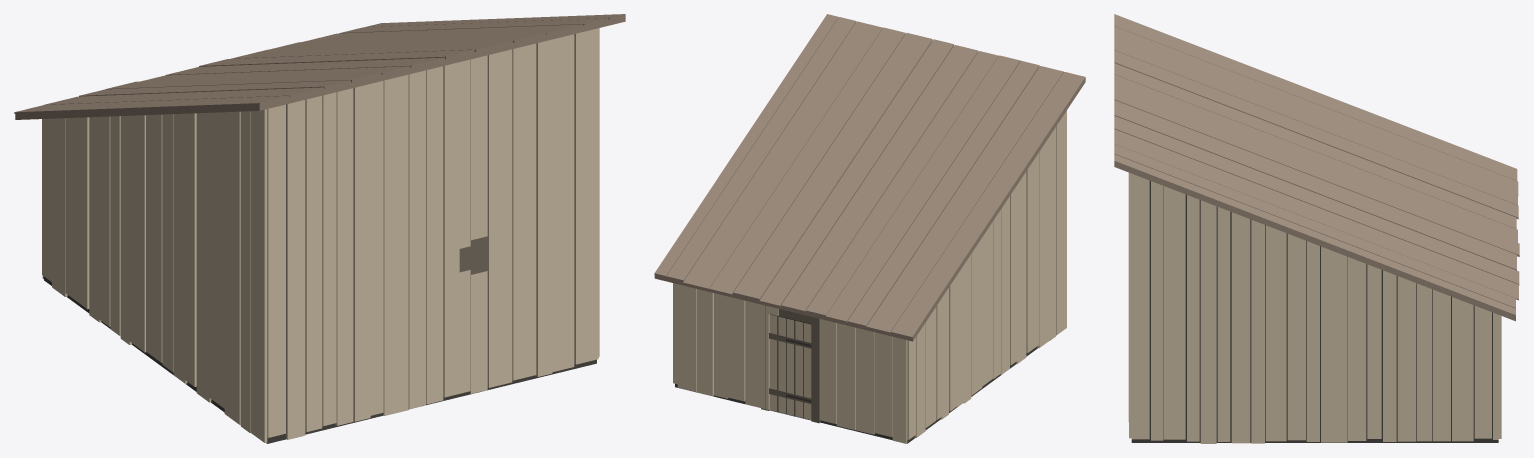
Rendered from recon_1835_north_d2_003__inferred_1835.glb.
3 renders of one model, left to right at view 1: azimuth 30°, elevation 25°; view 2: azimuth 150°, elevation 25°; view 3: azimuth 270°, elevation 25°, orthographic. The views are drawn at different scales.
Visible parts, largest first — view 1: recon_1835_north_d2_003__inferred_1835; view 2: recon_1835_north_d2_003__inferred_1835; view 3: recon_1835_north_d2_003__inferred_1835.
Part boxes in pixels (x1,y1,x2,y2): recon_1835_north_d2_003__inferred_1835: (14, 14, 625, 443); recon_1835_north_d2_003__inferred_1835: (654, 14, 1085, 443); recon_1835_north_d2_003__inferred_1835: (1114, 14, 1519, 443).
Bounding box in the file's own units: 5.22 × 4.82 × 6.09.
